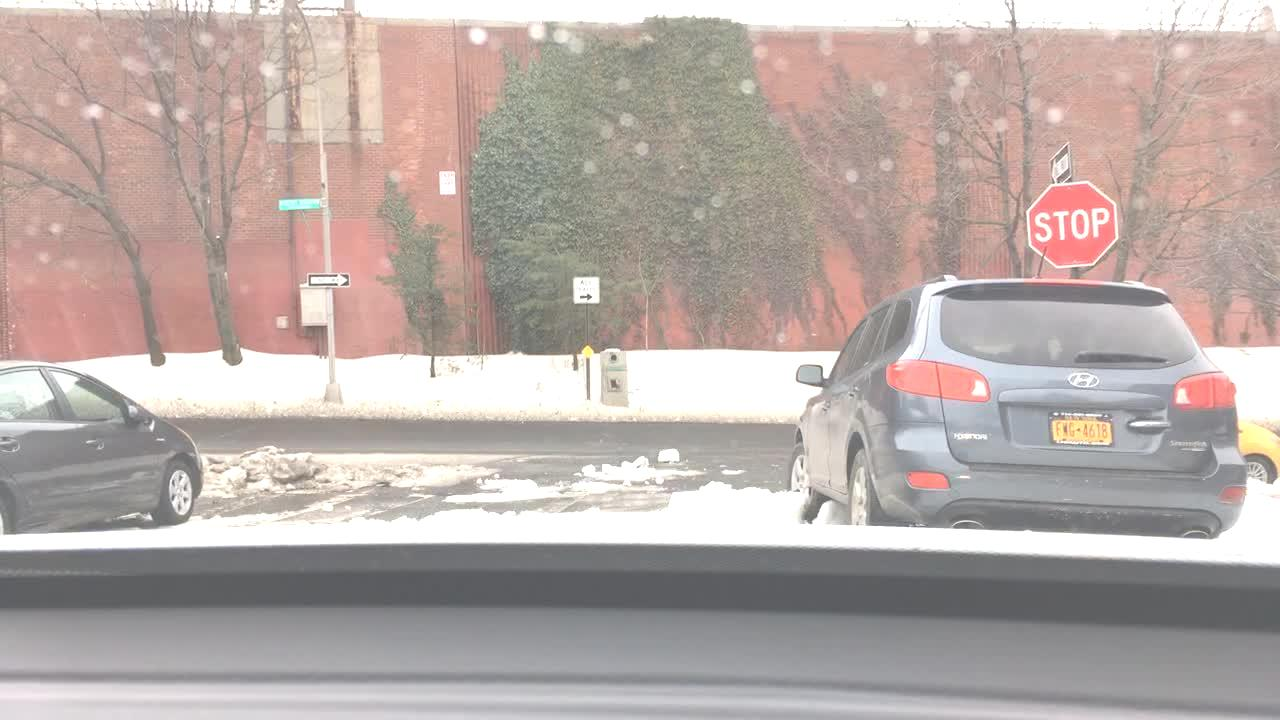Hyundai: (1064, 364, 1104, 399)
